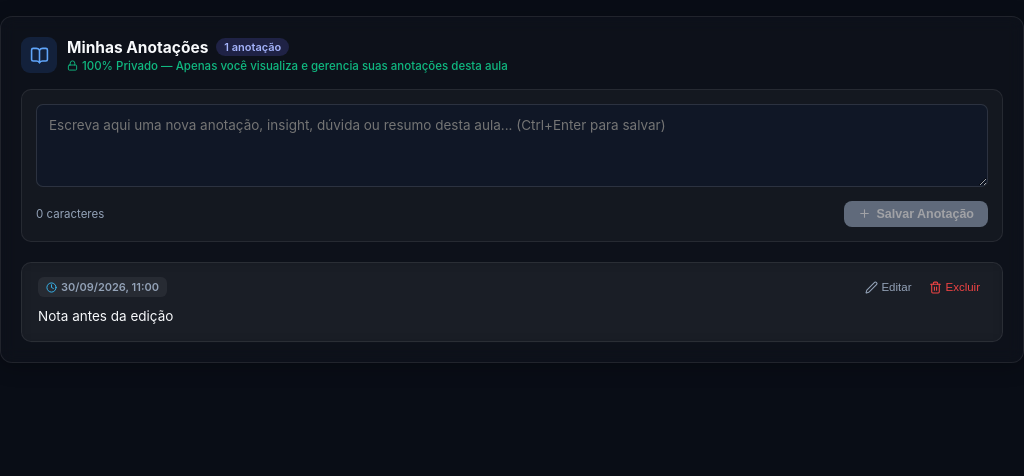
Test: LessonNotes Component & Badges › allows inline editing of an existing note badge
The width and height of the screenshot is (1024, 476).
Expected: the text "Nota antes da edição" is shown, [38,308,173,324]
# Clica em Editar
Click the button with test id "edit-note-btn-1" at [888, 287], box [859,277,917,298]
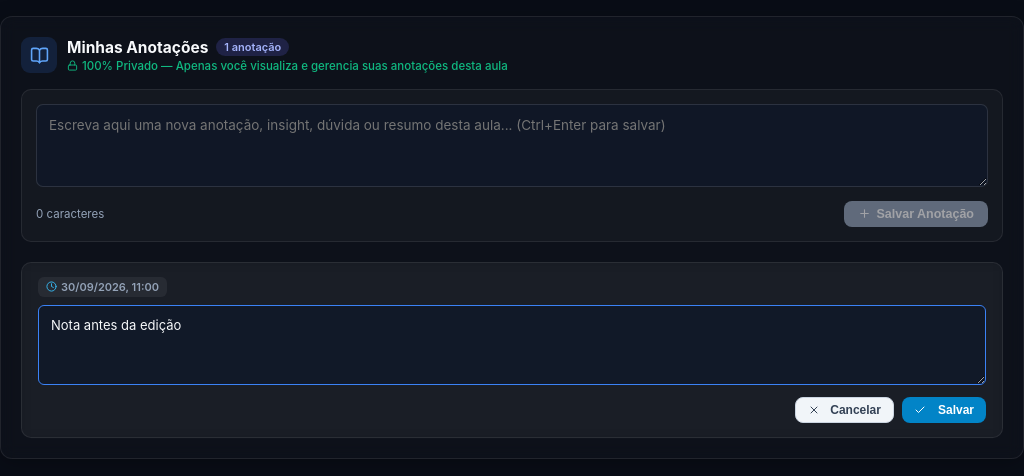
Result: the text box with test id "edit-note-textarea-1" holds "Nota antes da edição" at [38,305,986,385]
# Testa cancelamento
Click the button with test id "cancel-edit-btn-1" at [845, 410], box [795,397,894,423]
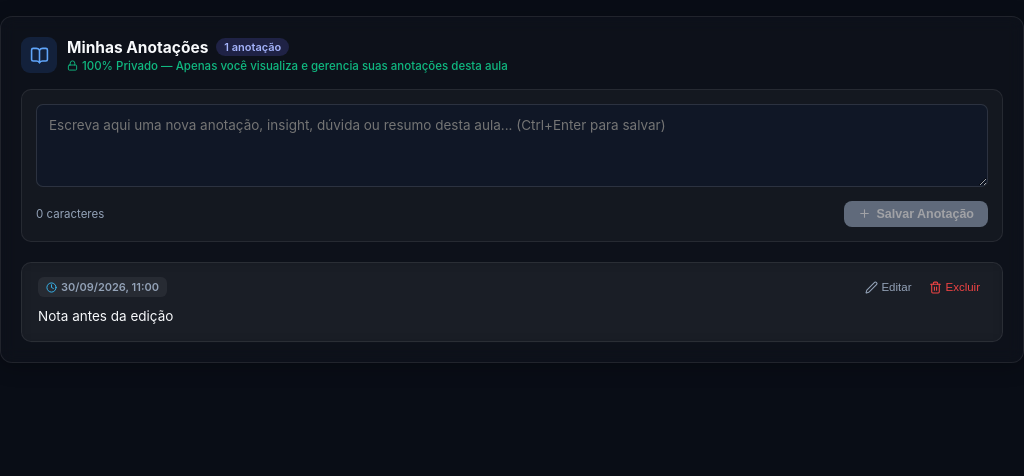
Result: the text box with test id "edit-note-textarea-1" is gone
# Reabre e salva
Click the button with test id "edit-note-btn-1" at [888, 287], box [859,277,917,298]
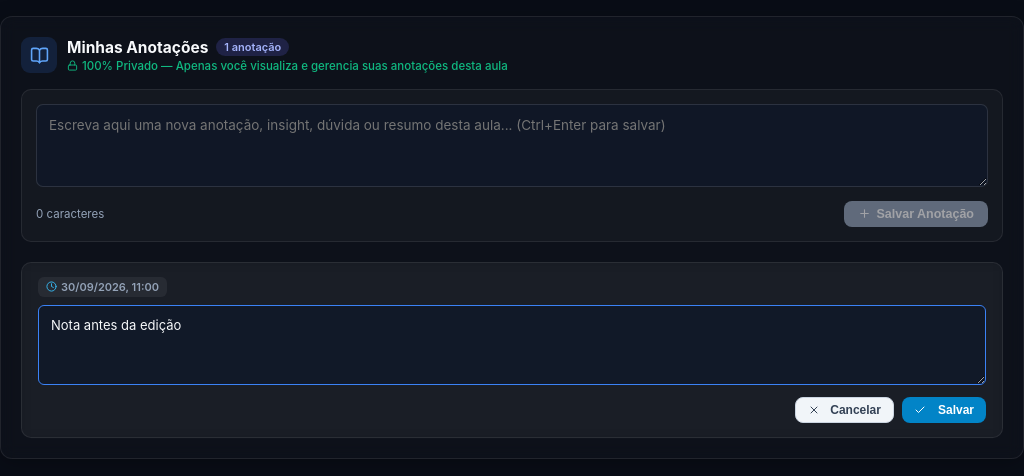
Replace the text in the text box with test id "edit-note-textarea-1" with "Nota editada com sucesso" at [512, 345], box [38,305,986,385]
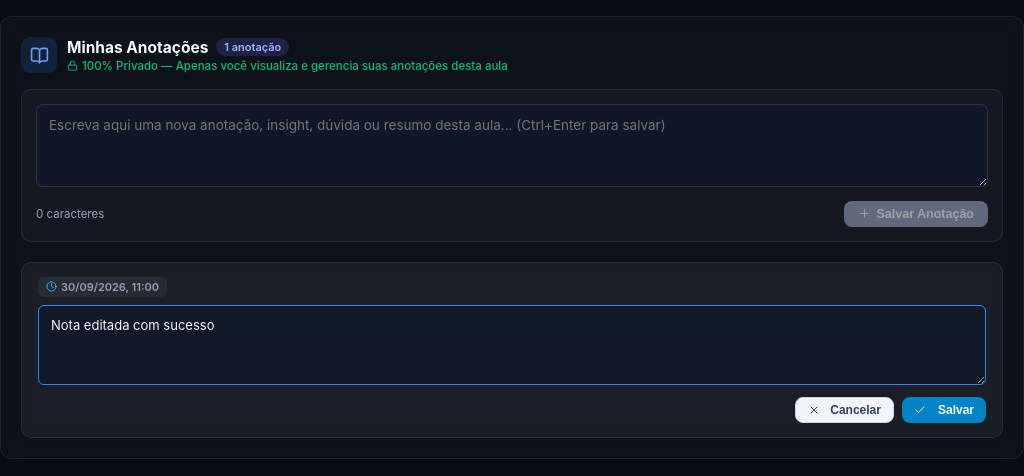
Click the button with test id "save-edit-btn-1" at [944, 410], box [902,397,986,423]
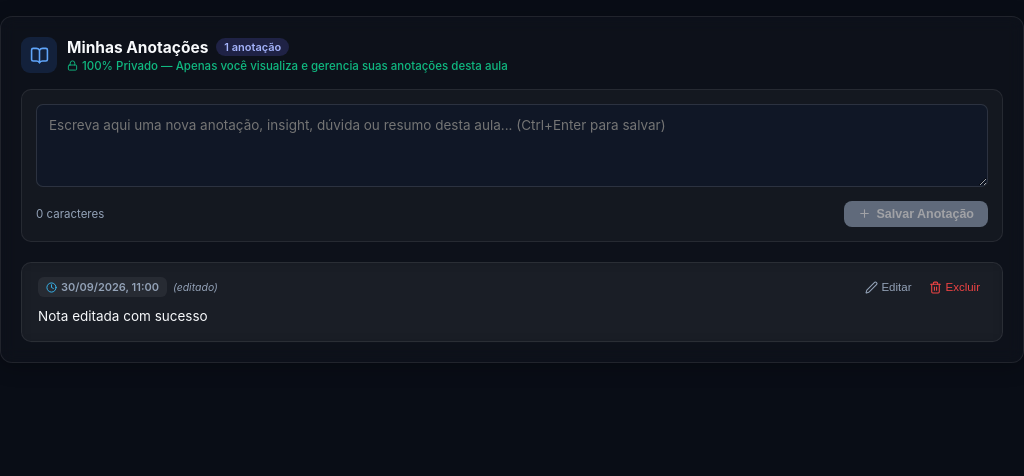
Result: the text "Nota editada com sucesso" is shown at [38,308,208,324]
